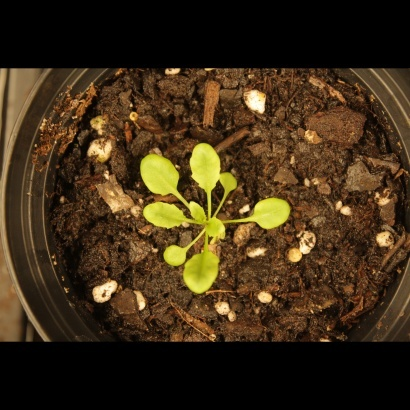leaf: (136, 150, 184, 200), (184, 247, 226, 296), (188, 140, 224, 195), (250, 196, 295, 232), (140, 201, 189, 233), (160, 242, 190, 269), (218, 171, 241, 194), (205, 217, 228, 240), (188, 202, 211, 225)
